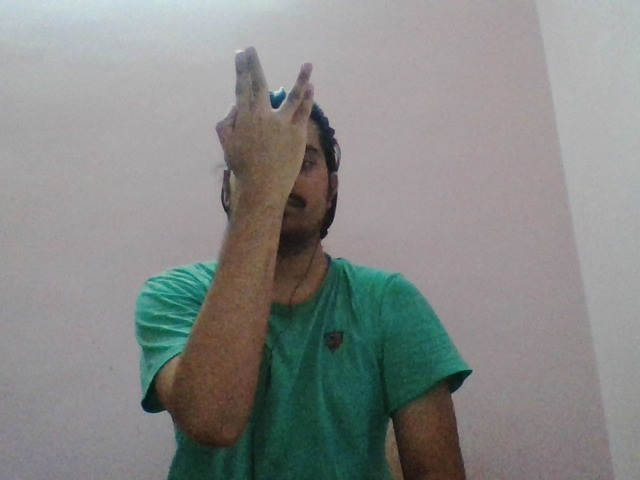LiveLong: (216, 44, 316, 194)
